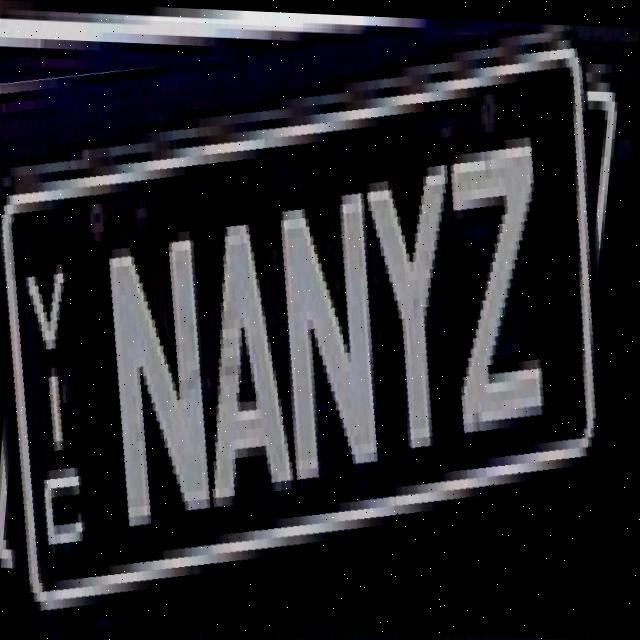LicensePlate: (0, 14, 639, 634)
